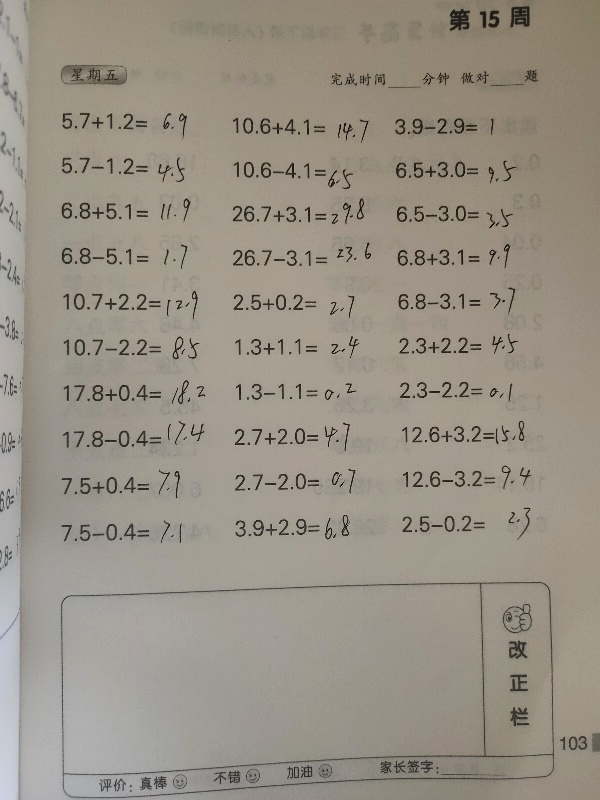equation: (59, 284, 207, 325), (388, 501, 544, 539), (229, 507, 361, 551), (47, 101, 195, 140), (51, 151, 195, 191), (56, 375, 211, 412), (227, 240, 376, 277), (225, 156, 365, 195), (55, 329, 207, 364), (49, 195, 196, 231), (228, 288, 372, 324), (57, 420, 213, 453), (391, 279, 517, 319), (389, 463, 540, 495), (227, 199, 372, 232), (227, 421, 360, 456), (225, 464, 365, 497), (395, 421, 543, 452), (391, 197, 521, 232), (55, 241, 201, 272), (395, 328, 520, 364), (229, 114, 372, 145), (58, 465, 183, 499), (227, 333, 368, 363), (391, 240, 520, 272), (59, 516, 186, 547), (392, 157, 521, 187), (396, 377, 516, 403), (233, 379, 360, 403), (392, 114, 498, 139)
